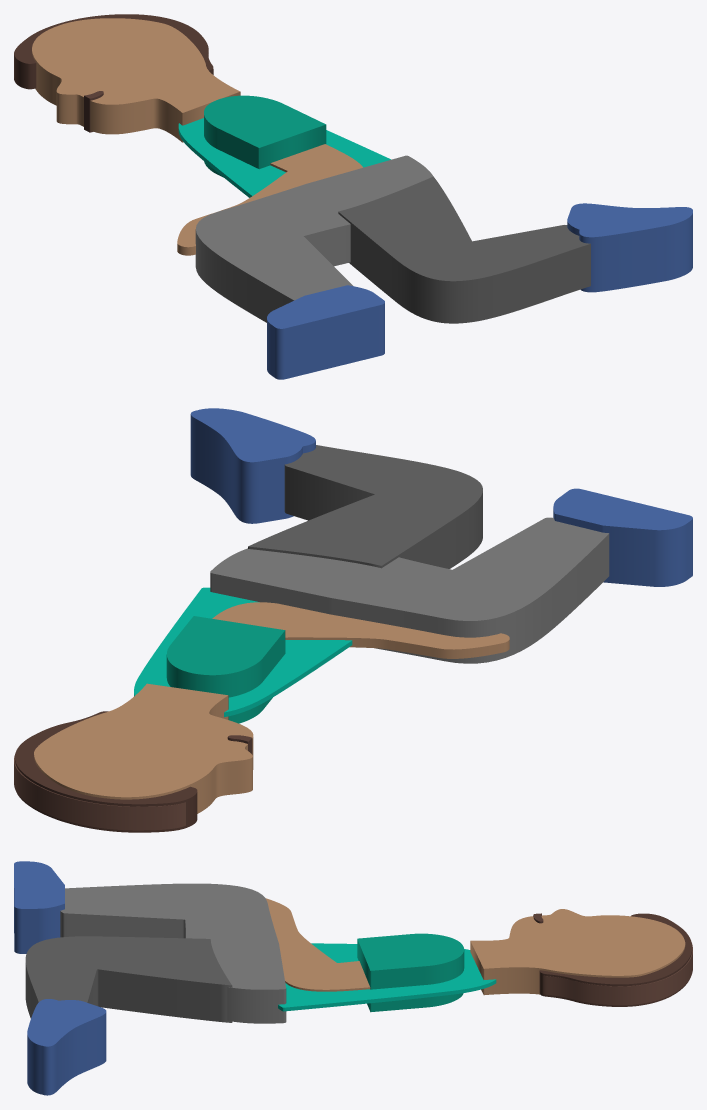
File: emoji_u1f9ce_1f3fd_200d_2642.glb
3 renders of one model, top to bottom at view 1: azimuth 30°, elevation 25°; view 2: azimuth 150°, elevation 25°; view 3: azimuth 270°, elevation 25°, orthographic. The views are drawn at different scales.
Parts seen in each view (by area): view 1: emoji_u1f9ce_1f3fd_200d_2642; view 2: emoji_u1f9ce_1f3fd_200d_2642; view 3: emoji_u1f9ce_1f3fd_200d_2642.
Boxes of the visible parts, <box> form: emoji_u1f9ce_1f3fd_200d_2642: <box>14,14,692,379</box>; emoji_u1f9ce_1f3fd_200d_2642: <box>14,408,692,832</box>; emoji_u1f9ce_1f3fd_200d_2642: <box>14,861,692,1095</box>.
Bounding box in the file's own units: 0.0213 × 0.0026 × 0.0327.
